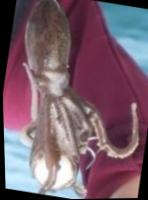Cephalopod: (18, 0, 137, 199)
